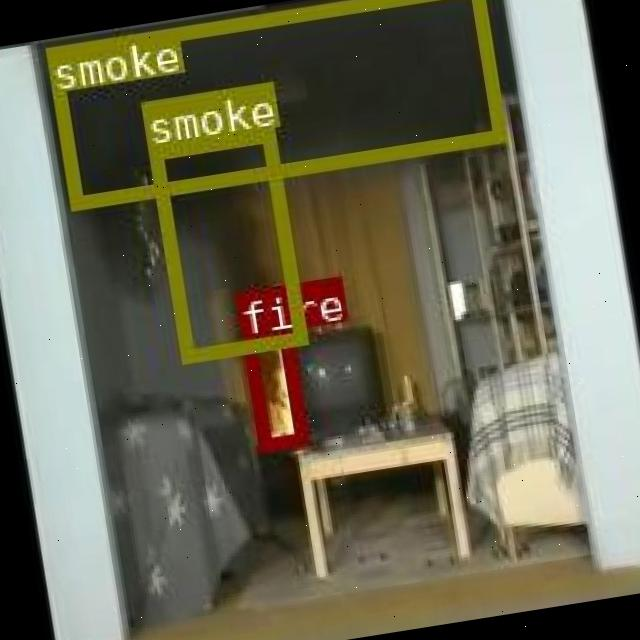fire: (239, 328, 307, 449)
smoke: (44, 0, 505, 209), (146, 126, 306, 362)
